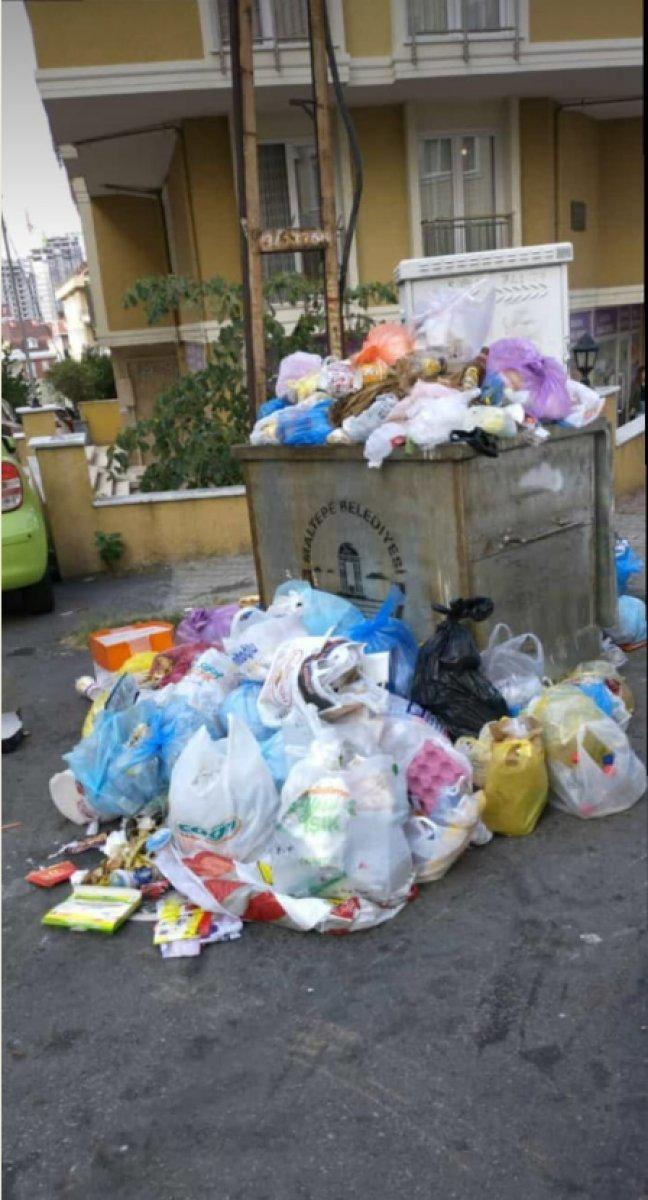Container: (242, 435, 619, 630)
Garbage: (199, 600, 505, 908), (76, 685, 295, 948), (445, 628, 639, 861), (257, 310, 603, 428)
